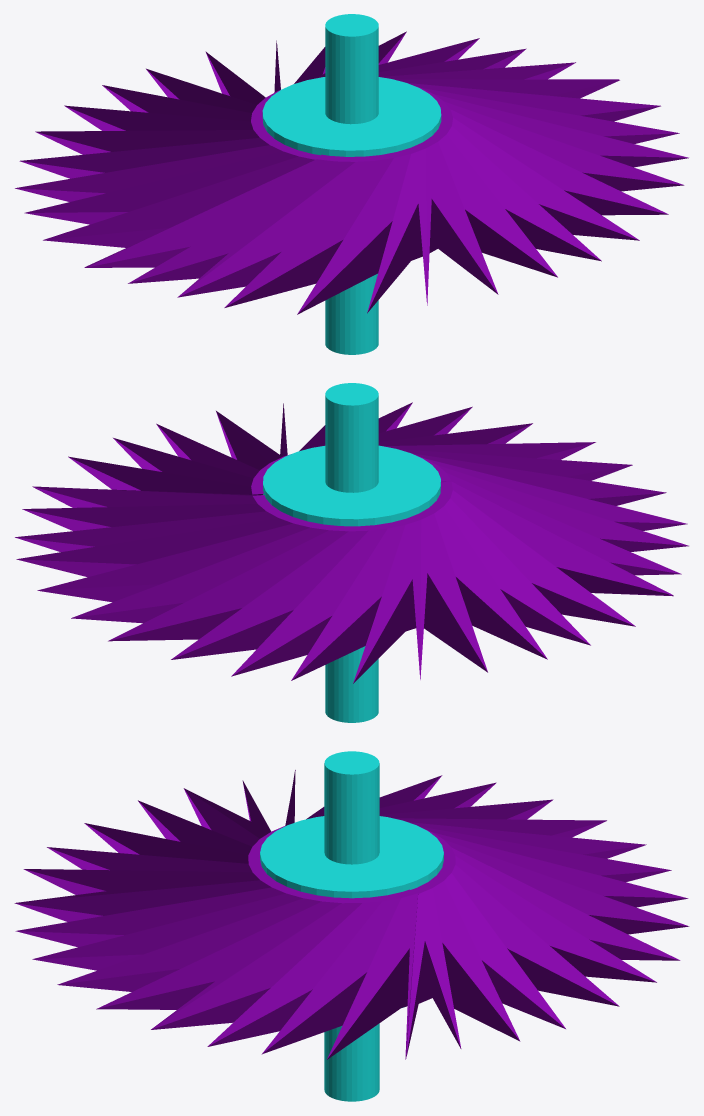
The model's file is spinner.fbx.
The picture shows the model from 3 angles, top to bottom: view 1: azimuth 30°, elevation 25°; view 2: azimuth 150°, elevation 25°; view 3: azimuth 270°, elevation 25°; orthographic projection. The views are drawn at different scales.
Parts seen in each view (by area): view 1: Cylinder.001, Cylinder, Cylinder.002; view 2: Cylinder, Cylinder.001, Cylinder.002; view 3: Cylinder.001, Cylinder, Cylinder.002.
Part boxes in pixels (bbox=[...]): Cylinder.001: bbox=[85, 79, 688, 314]; Cylinder: bbox=[15, 31, 619, 267]; Cylinder.002: bbox=[262, 14, 441, 354]; Cylinder: bbox=[15, 481, 673, 683]; Cylinder.001: bbox=[33, 402, 688, 596]; Cylinder.002: bbox=[263, 383, 440, 722]; Cylinder.001: bbox=[14, 770, 418, 1059]; Cylinder: bbox=[286, 770, 689, 1058]; Cylinder.002: bbox=[260, 751, 443, 1101].
Bounding box in the file's own units: 226 × 115 × 216.
